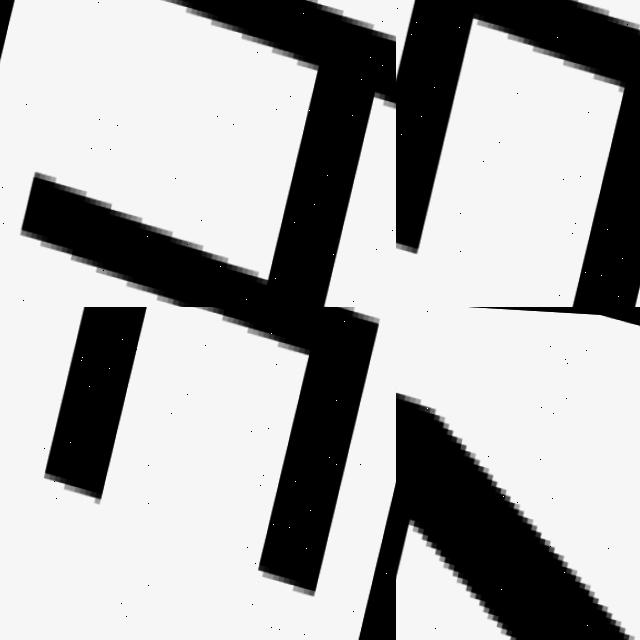E: (396, 0, 640, 307)
F: (0, 307, 396, 595)
H: (0, 0, 396, 307)
Z: (396, 359, 640, 640)
